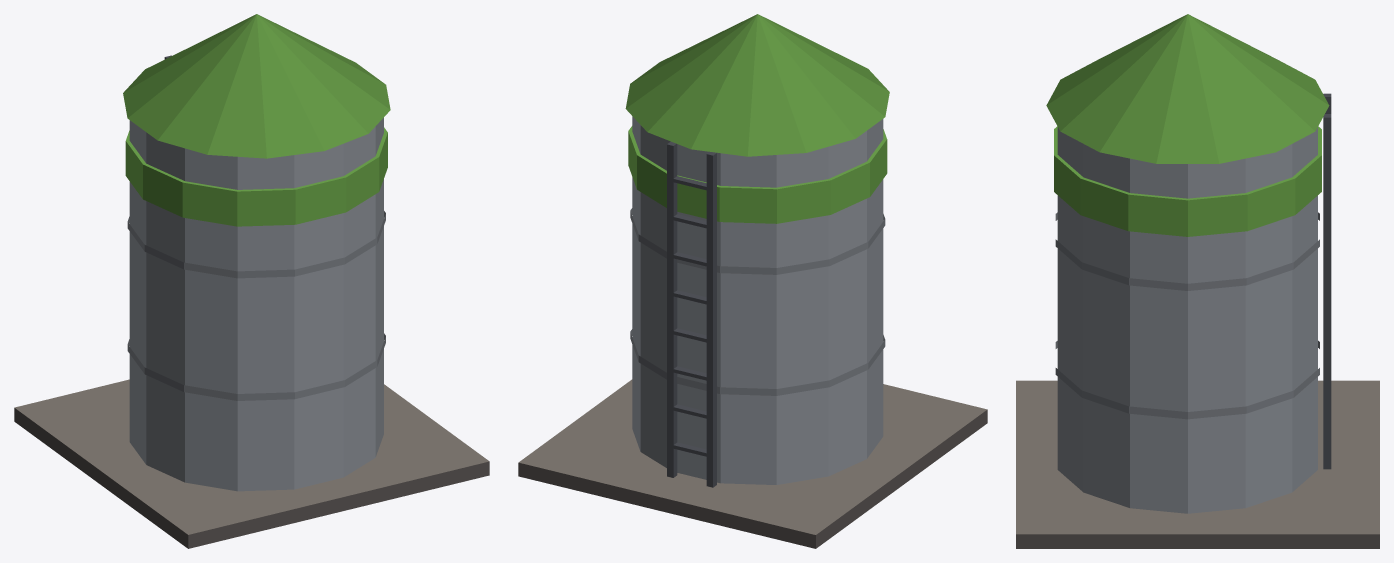
Rendered from silo.obj.
3 renders of one model, left to right at view 1: azimuth 30°, elevation 25°; view 2: azimuth 150°, elevation 25°; view 3: azimuth 270°, elevation 25°, orthographic. The views are drawn at different scales.
Bounding box in the file's own units: 1.8 × 2.5 × 1.8.
